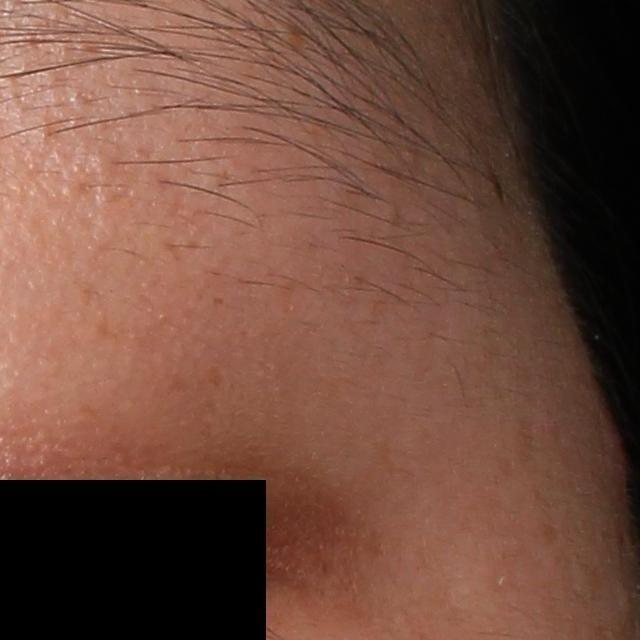melasma: (203, 360, 222, 387)
